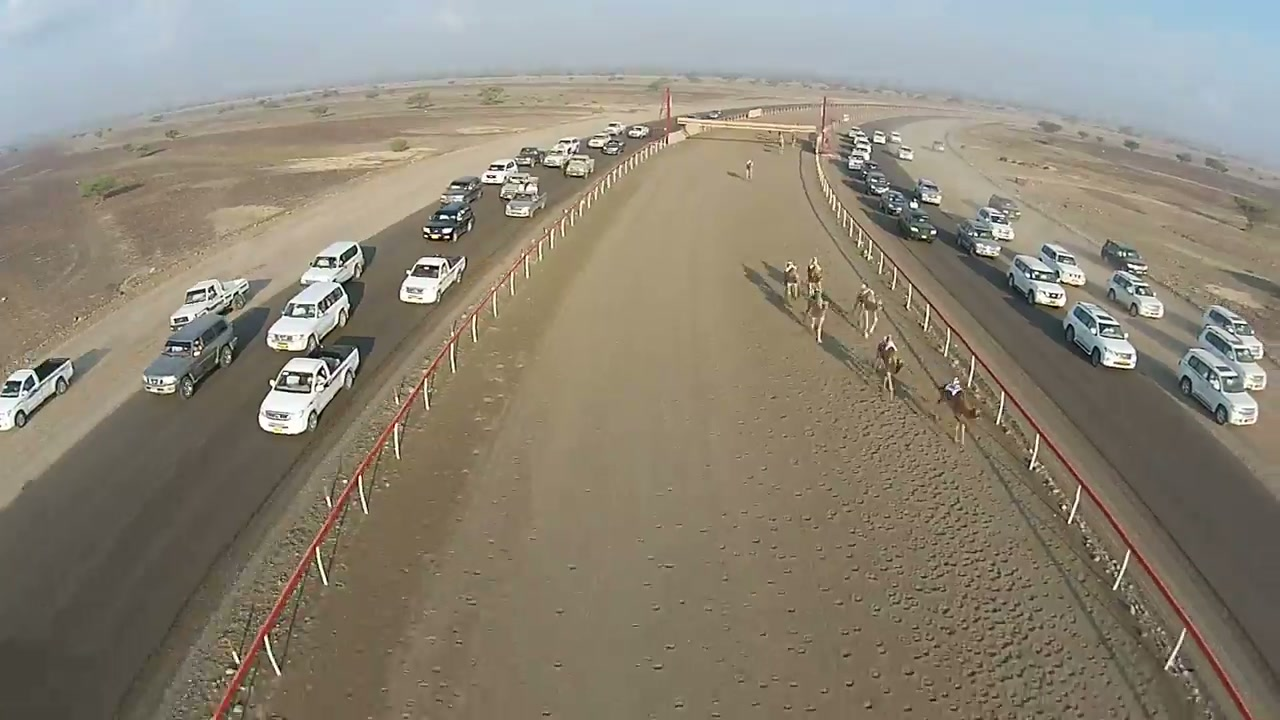animal_foot_print: (813, 386, 1110, 719)
